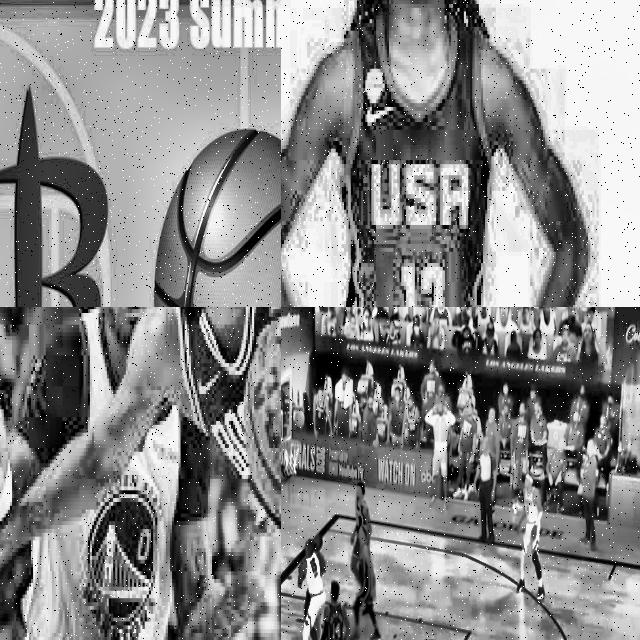Basketball: (154, 128, 281, 307), (246, 311, 281, 523), (296, 412, 305, 428)
